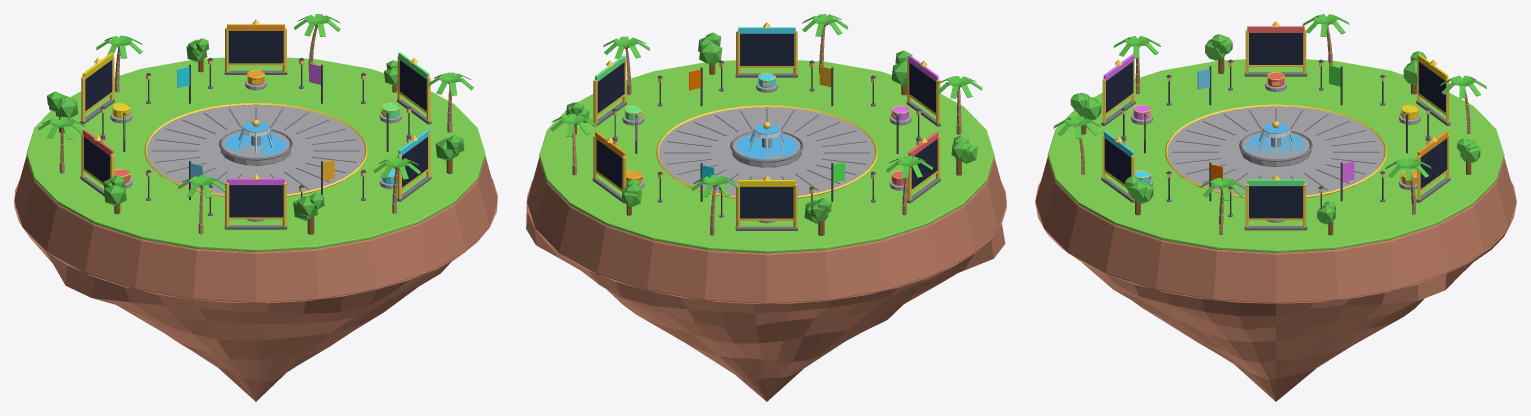
The model's file is Centro.glb.
3 views of the same model, side by side, from view 1: azimuth 30°, elevation 25°; view 2: azimuth 150°, elevation 25°; view 3: azimuth 270°, elevation 25° (orthographic).
Visible parts, largest first — view 1: Centro_Plaza_9, Centro_Base_Flotante, Centro_Top_Tiempo_Pantalla, Centro_Top_Giros_Pantalla, Centro_Top_Tiempo, Centro_Top_Giros, Centro_Top_Oleadas, Centro_Top_Monedas, Centro_Top_Torretas, Centro_Top_Enemigos, Centro_Top_Oleadas_Pantalla, Centro_Top_Monedas_Pantalla (+17 smaller); view 2: Centro_Plaza_9, Centro_Base_Flotante, Centro_Top_Oleadas_Pantalla, Centro_Top_Torretas_Pantalla, Centro_Top_Torretas, Centro_Top_Oleadas, Centro_Top_Monedas, Centro_Top_Giros, Centro_Top_Enemigos, Centro_Top_Tiempo, Centro_Top_Monedas_Pantalla, Centro_Top_Giros_Pantalla (+16 smaller); view 3: Centro_Plaza_9, Centro_Base_Flotante, Centro_Top_Monedas_Pantalla, Centro_Top_Enemigos_Pantalla, Centro_Top_Enemigos, Centro_Top_Monedas, Centro_Top_Giros, Centro_Top_Oleadas, Centro_Top_Tiempo, Centro_Top_Torretas, Centro_Top_Giros_Pantalla, Centro_Top_Oleadas_Pantalla (+17 smaller).
Part boxes in pixels (x1,y1,x2,y2): Centro_Plaza_9: [14, 57, 497, 303]; Centro_Base_Flotante: [14, 178, 497, 401]; Centro_Top_Tiempo_Pantalla: [228, 31, 283, 63]; Centro_Top_Giros_Pantalla: [229, 185, 283, 217]; Centro_Top_Tiempo: [224, 19, 287, 90]; Centro_Top_Giros: [224, 174, 287, 229]; Centro_Top_Oleadas: [80, 52, 132, 124]; Centro_Top_Monedas: [379, 52, 431, 124]; Centro_Top_Torretas: [379, 129, 431, 201]; Centro_Top_Enemigos: [80, 129, 132, 196]; Centro_Top_Oleadas_Pantalla: [85, 60, 112, 110]; Centro_Top_Monedas_Pantalla: [399, 60, 426, 110]; Centro_Plaza_9: [527, 60, 1006, 303]; Centro_Base_Flotante: [526, 180, 1006, 401]; Centro_Top_Oleadas_Pantalla: [740, 187, 793, 218]; Centro_Top_Torretas_Pantalla: [740, 34, 793, 65]; Centro_Top_Torretas: [735, 22, 797, 92]; Centro_Top_Oleadas: [735, 175, 797, 230]; Centro_Top_Monedas: [593, 55, 644, 126]; Centro_Top_Giros: [889, 55, 940, 126]; Centro_Top_Enemigos: [889, 131, 940, 203]; Centro_Top_Tiempo: [592, 131, 644, 203]; Centro_Top_Monedas_Pantalla: [597, 62, 624, 113]; Centro_Top_Giros_Pantalla: [909, 62, 935, 113]; Centro_Plaza_9: [1035, 59, 1516, 303]; Centro_Base_Flotante: [1035, 181, 1516, 401]; Centro_Top_Monedas_Pantalla: [1249, 186, 1302, 218]; Centro_Top_Enemigos_Pantalla: [1249, 33, 1302, 64]; Centro_Top_Enemigos: [1244, 21, 1307, 91]; Centro_Top_Monedas: [1244, 175, 1307, 230]; Centro_Top_Giros: [1101, 54, 1152, 125]; Centro_Top_Oleadas: [1399, 54, 1450, 125]; Centro_Top_Tiempo: [1399, 131, 1450, 202]; Centro_Top_Torretas: [1101, 131, 1152, 202]; Centro_Top_Giros_Pantalla: [1106, 61, 1133, 112]; Centro_Top_Oleadas_Pantalla: [1418, 61, 1445, 112].
Bounding box in the file's own units: 57 × 39.7 × 57.
Materials: 1 (1 with a texture image).
